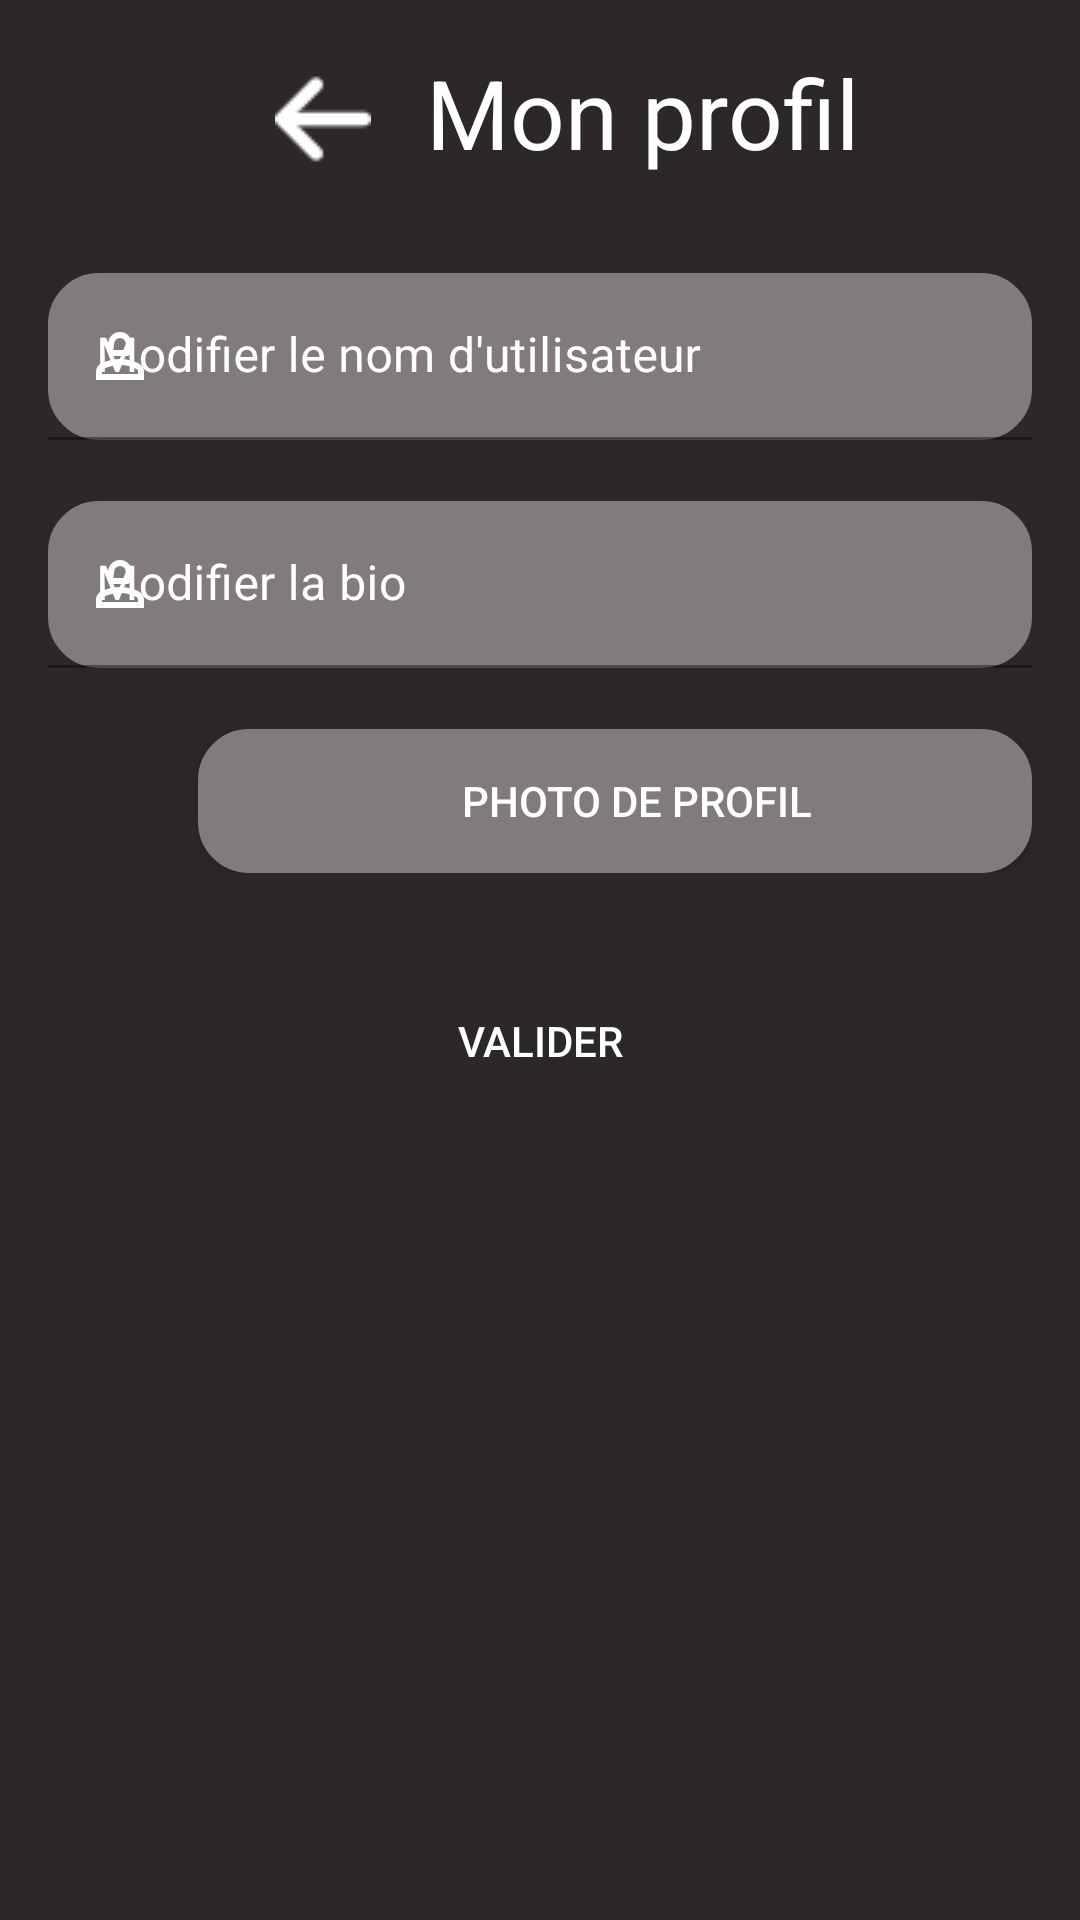

Icons on this 1080px x 1920px Android screen, each with its box as (x1, y1, x2, y2):
Bouton de retour: (275, 76, 371, 162)
